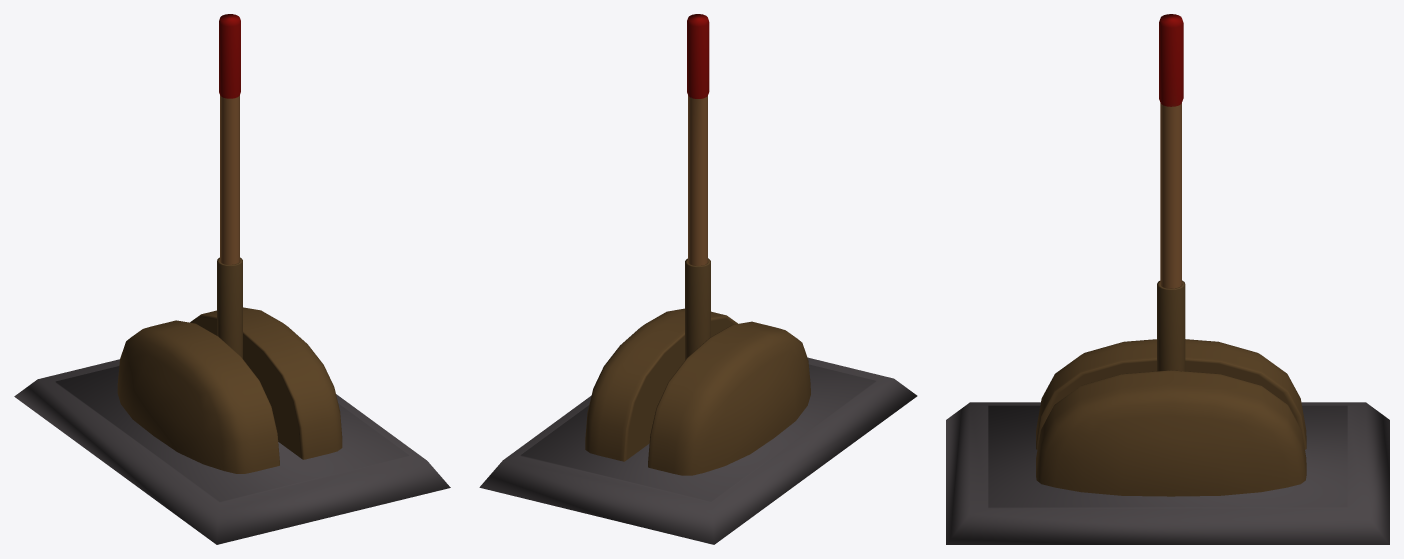
Rendered from Lever.fbx.
3 views of the same model, side by side, from view 1: azimuth 30°, elevation 25°; view 2: azimuth 150°, elevation 25°; view 3: azimuth 270°, elevation 25° (orthographic). The views are drawn at different scales.
Parts seen in each view (by area): view 1: Lever_Base, Lever_Handle, Lever_Slot; view 2: Lever_Base, Lever_Handle, Lever_Slot; view 3: Lever_Base, Lever_Handle, Lever_Slot.
Boxes of the visible parts, x1,y1,x2,y2 form: Lever_Base: (14, 307, 450, 544); Lever_Handle: (219, 14, 240, 264); Lever_Slot: (217, 257, 242, 358); Lever_Base: (479, 308, 917, 544); Lever_Handle: (687, 14, 709, 265); Lever_Slot: (685, 258, 710, 359); Lever_Base: (946, 339, 1389, 544); Lever_Handle: (1159, 14, 1183, 288); Lever_Slot: (1157, 280, 1185, 371).
Bounding box in the file's own units: 47 × 81.2 × 70.5.
1 material, 1 textured.
